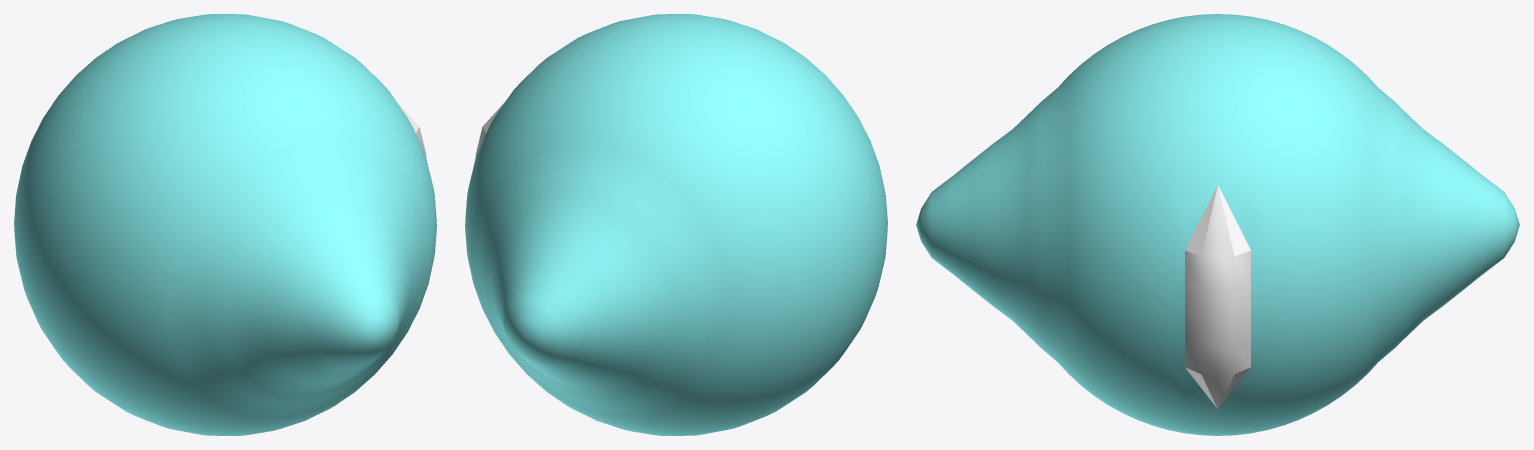
File: MESH_EyeTurret.fbx
3 views of the same model, side by side, from view 1: azimuth 30°, elevation 25°; view 2: azimuth 150°, elevation 25°; view 3: azimuth 270°, elevation 25° (orthographic).
Visible parts, largest first — view 1: pSphere1; view 2: pSphere1; view 3: pSphere1.
Part boxes in pixels (bbox=[...]): pSphere1: bbox=[14, 14, 436, 435]; pSphere1: bbox=[465, 14, 887, 435]; pSphere1: bbox=[916, 14, 1519, 435].
Size of the model in its own units: 82.64 by 80 by 114.
